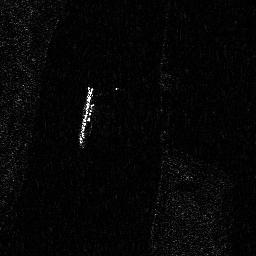ship: (78, 85, 95, 144)
